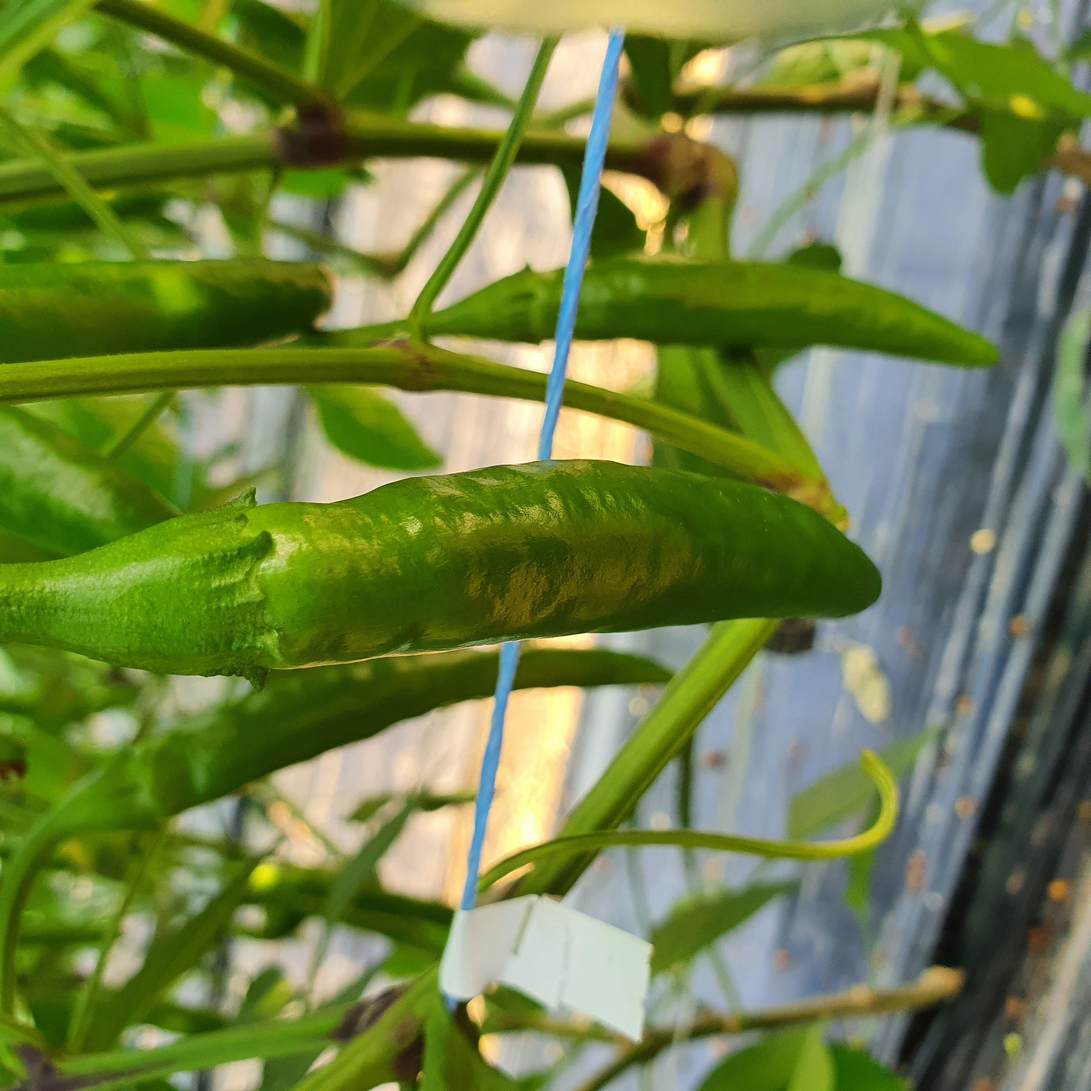Buah Cabai Sehat: (2, 454, 885, 687), (94, 634, 696, 832), (498, 255, 998, 377)
